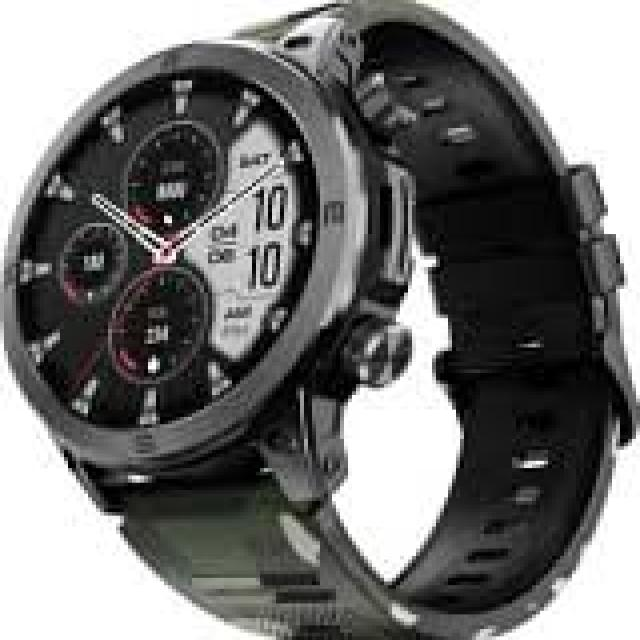objects: (0, 0, 636, 636)
